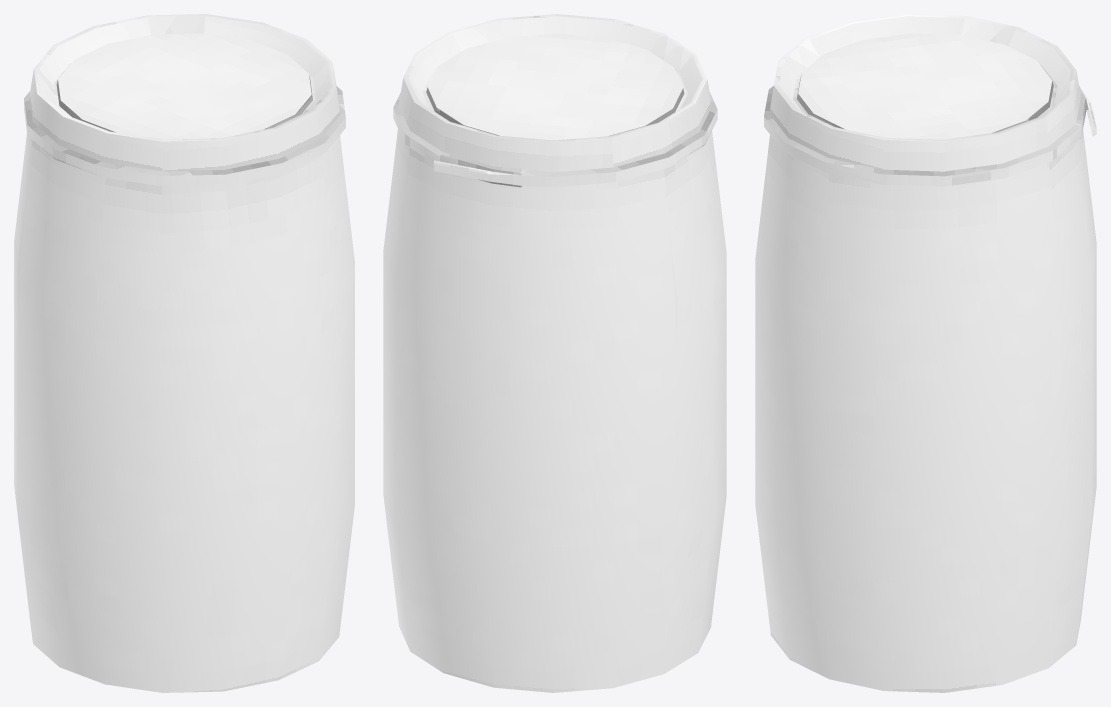
Rendered from Barrel220.glb.
The picture shows the model from 3 angles, left to right: view 1: azimuth 30°, elevation 25°; view 2: azimuth 150°, elevation 25°; view 3: azimuth 270°, elevation 25°; orthographic projection.
Visible parts, largest first — view 1: Barrel220, Barrel220.001; view 2: Barrel220, Barrel220.001; view 3: Barrel220, Barrel220.001.
Boxes of the visible parts, x1,y1,x2,y2 form: Barrel220: (14, 134, 354, 692); Barrel220.001: (24, 14, 345, 186); Barrel220: (383, 129, 726, 692); Barrel220.001: (393, 14, 717, 187); Barrel220: (755, 130, 1096, 692); Barrel220.001: (764, 14, 1096, 186).
Size of the model in its own units: 0.5848 by 1.04 by 0.585.
1 material, 1 textured.
